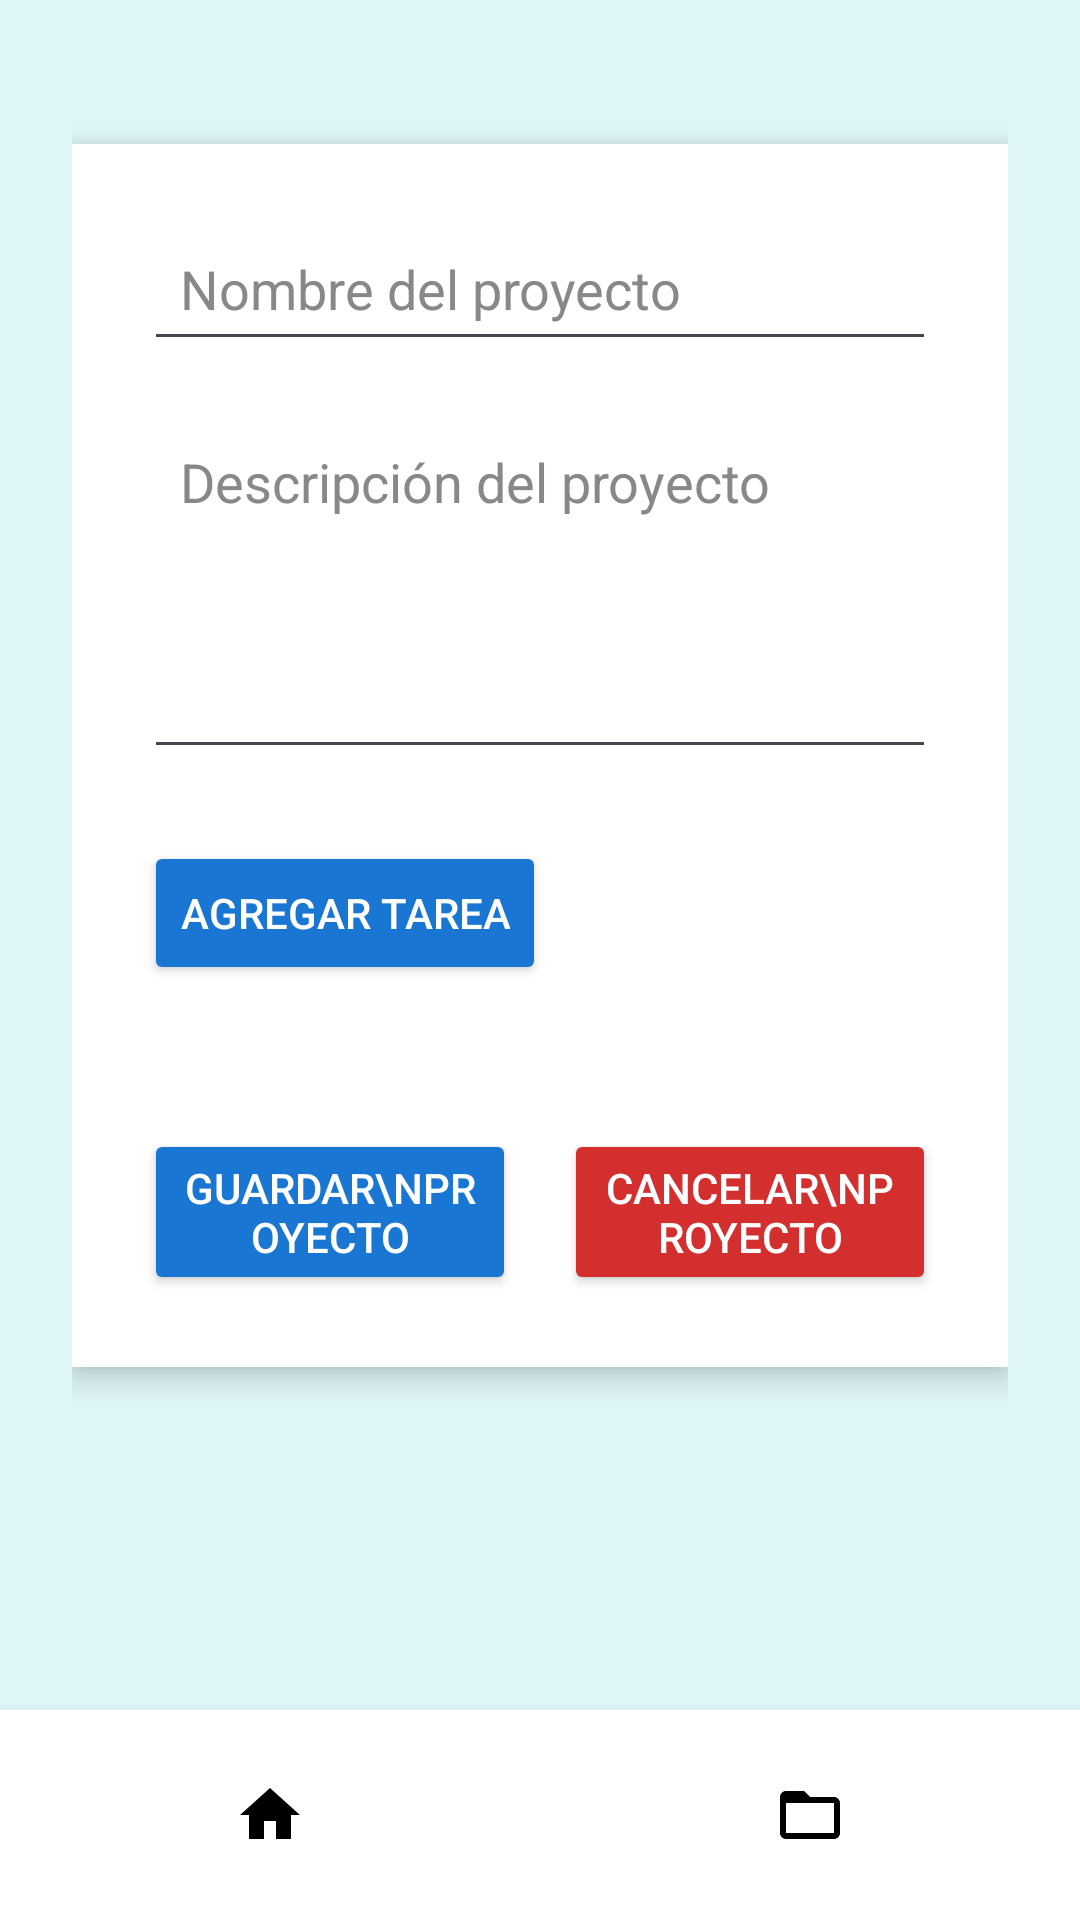

Named icons in this screenshot (1080w x 1920h) and their centers, (x,y):
Inicio: (270,1813)
